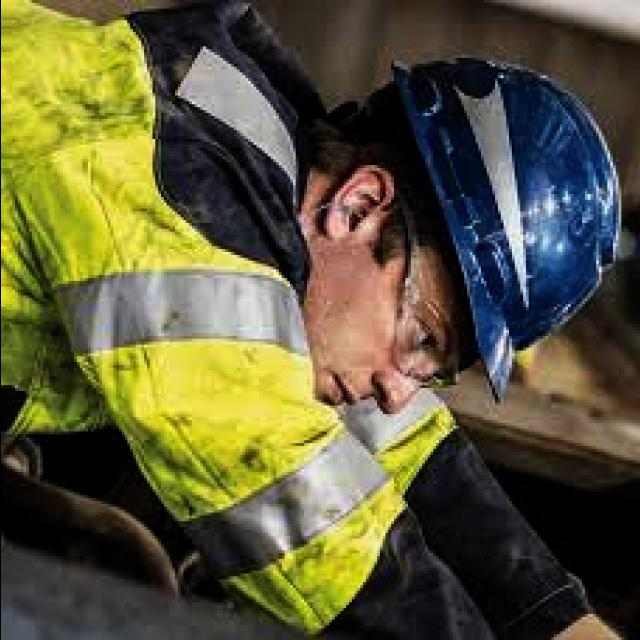Hard Hat: (370, 48, 630, 416)
Reflective Vest: (1, 2, 314, 508)
Safety Glasses: (394, 186, 458, 392)
